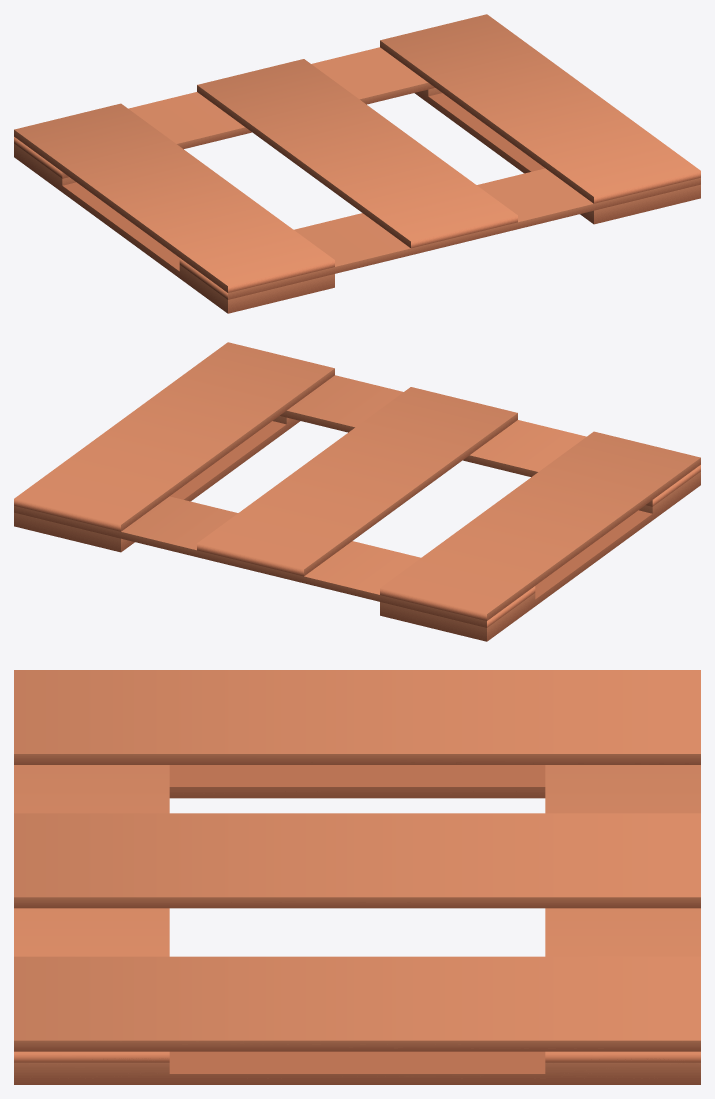
The model's file is pallet_lev2.glb.
3 views of the same model, one above another, from view 1: azimuth 30°, elevation 25°; view 2: azimuth 150°, elevation 25°; view 3: azimuth 270°, elevation 25° (orthographic). The views are drawn at different scales.
Visible parts, largest first — view 1: pallet_lev2; view 2: pallet_lev2; view 3: pallet_lev2.
Part boxes in pixels (x1,y1,x2,y2): pallet_lev2: (14,14,700,313); pallet_lev2: (14,342,700,641); pallet_lev2: (14,670,700,1084).
Bounding box in the file's own units: 4.31 × 0.2404 × 3.38.
1 material, 1 textured.
